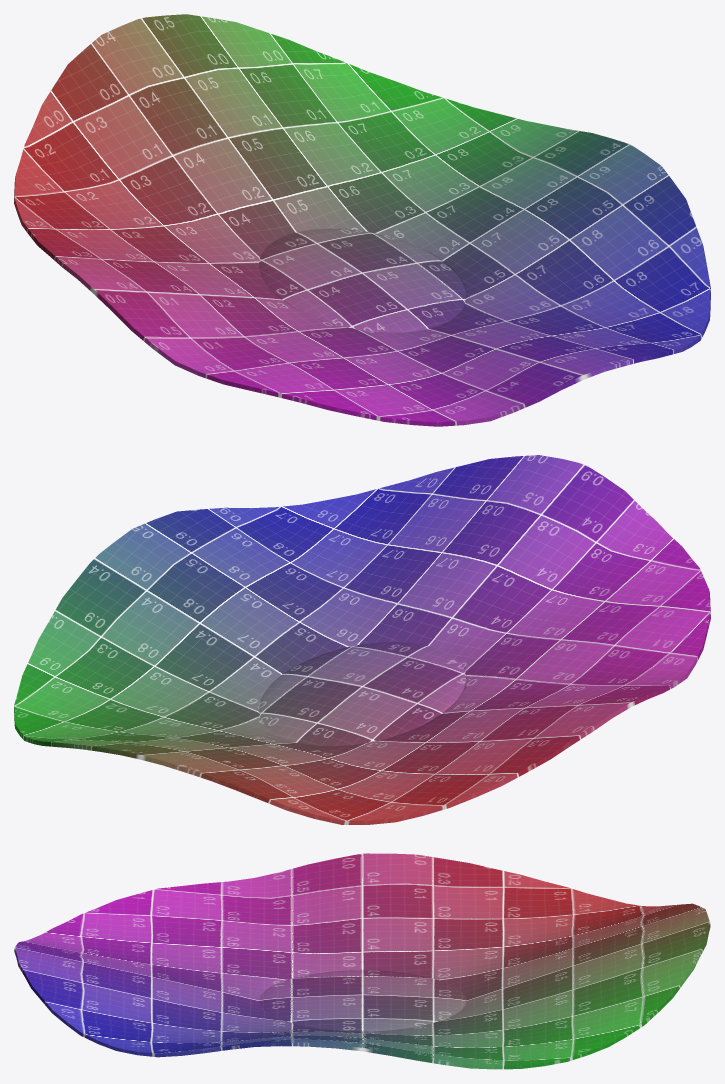
The model's file is Vase transparent_0001.fbx.
The picture shows the model from 3 angles, top to bottom: view 1: azimuth 30°, elevation 25°; view 2: azimuth 150°, elevation 25°; view 3: azimuth 270°, elevation 25°; orthographic projection. The views are drawn at different scales.
Parts seen in each view (by area): view 1: Disc; view 2: Disc; view 3: Disc.
Boxes of the visible parts, bbox=[...] form: Disc: bbox=[14, 14, 710, 426]; Disc: bbox=[14, 455, 710, 824]; Disc: bbox=[14, 853, 710, 1069].
Bounding box in the file's own units: 138 × 25.75 × 198.
Materials: 1 (1 with a texture image).
